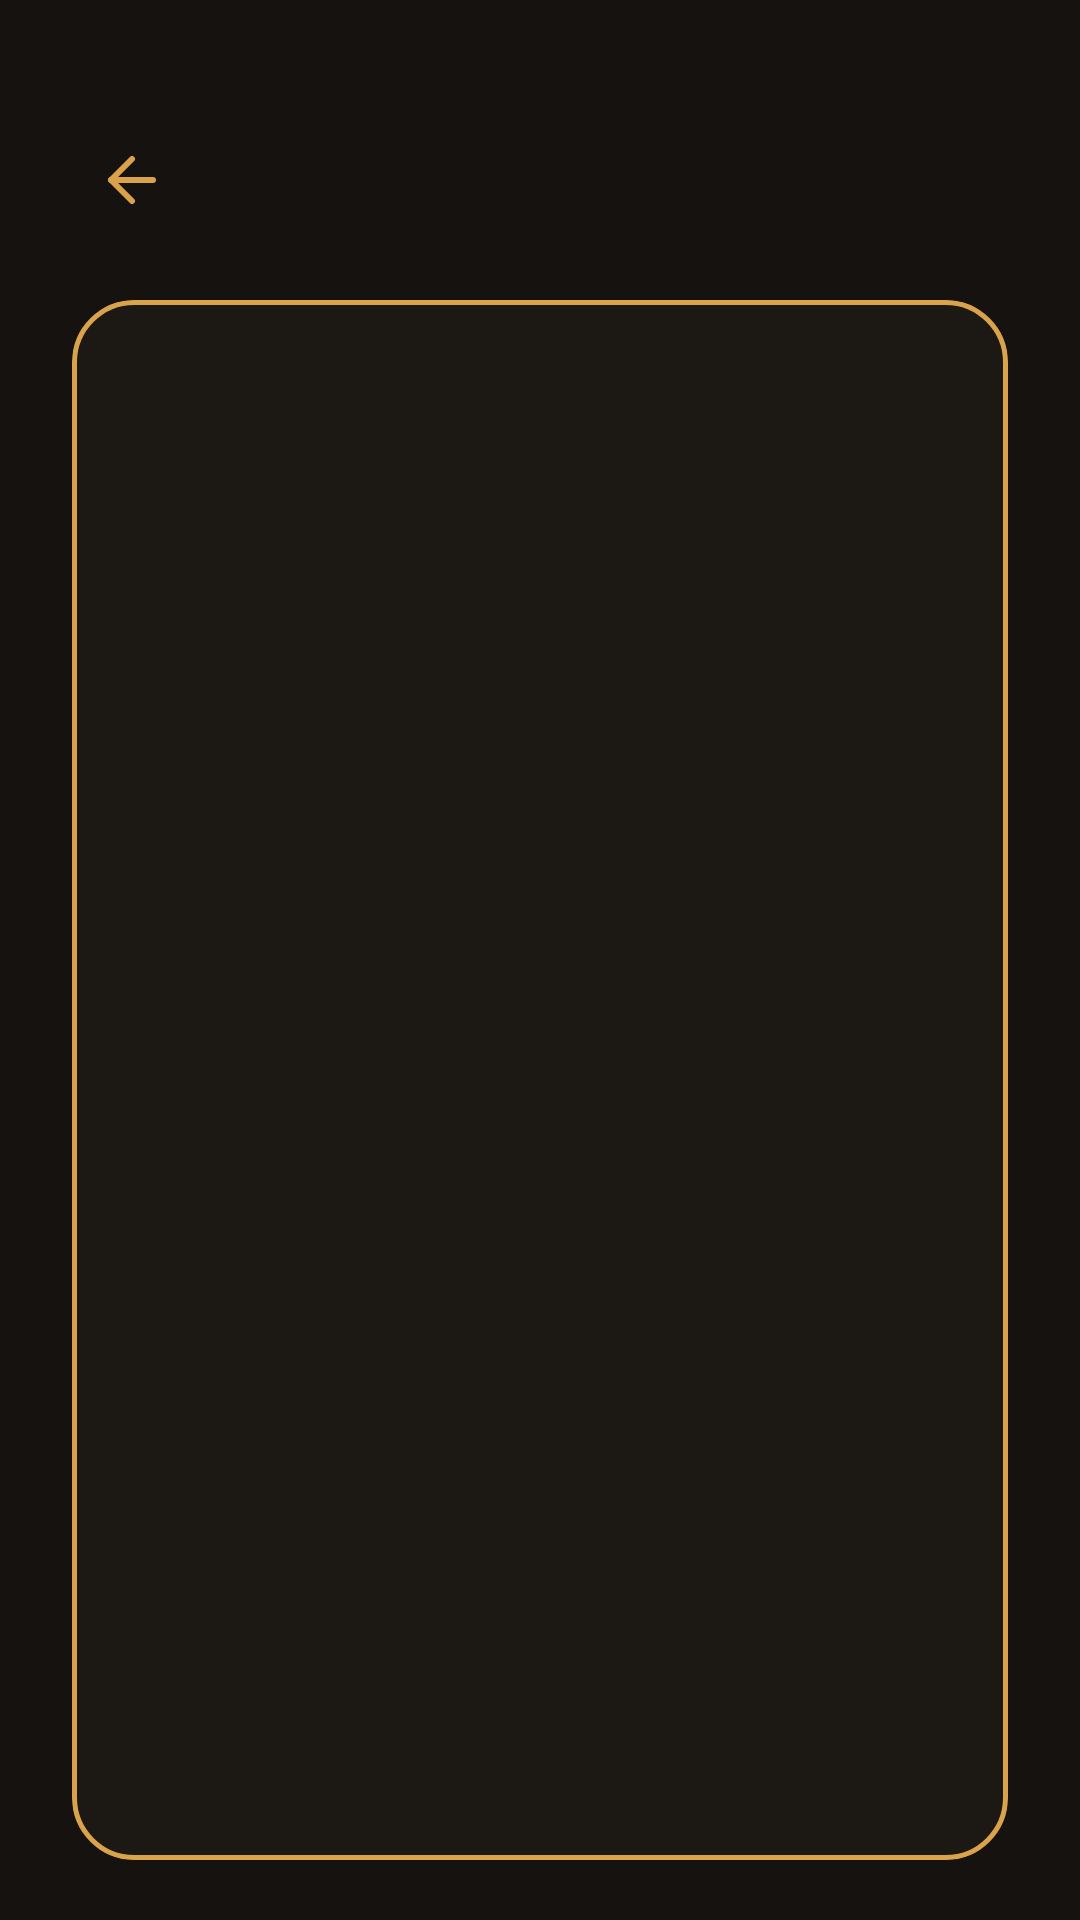

Icon bounding boxes for this 1080 x 1920 phone screenshot, format (x1, y1, x2, y2):
Voltar: (108, 156, 156, 204)
